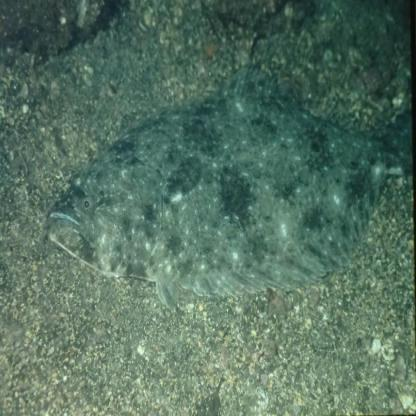flounder: (48, 67, 414, 308)
